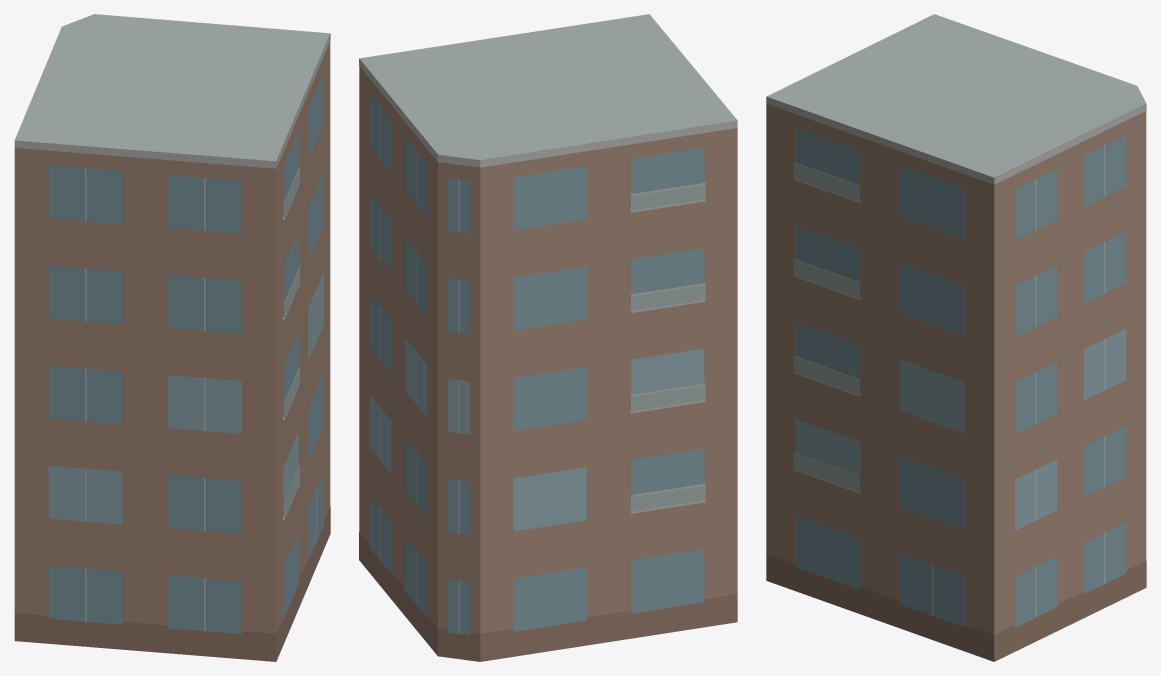
Rendered from survey-upis-32876407.glb.
The picture shows the model from 3 angles, left to right: view 1: azimuth 30°, elevation 25°; view 2: azimuth 150°, elevation 25°; view 3: azimuth 270°, elevation 25°; orthographic projection. The views are drawn at different scales.
Visible parts, largest first — view 1: survey-upis-32876407.tmp; view 2: survey-upis-32876407.tmp; view 3: survey-upis-32876407.tmp.
Boxes of the visible parts, box(x1,y1,x2,y2) form: survey-upis-32876407.tmp: box(14, 14, 330, 661); survey-upis-32876407.tmp: box(359, 14, 737, 661); survey-upis-32876407.tmp: box(766, 14, 1146, 661).
Size of the model in its own units: 11.97 by 16.5 by 11.75.
